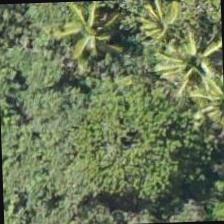Kelapa_Sawit: (148, 21, 223, 114), (122, 0, 216, 74), (42, 0, 135, 74)
